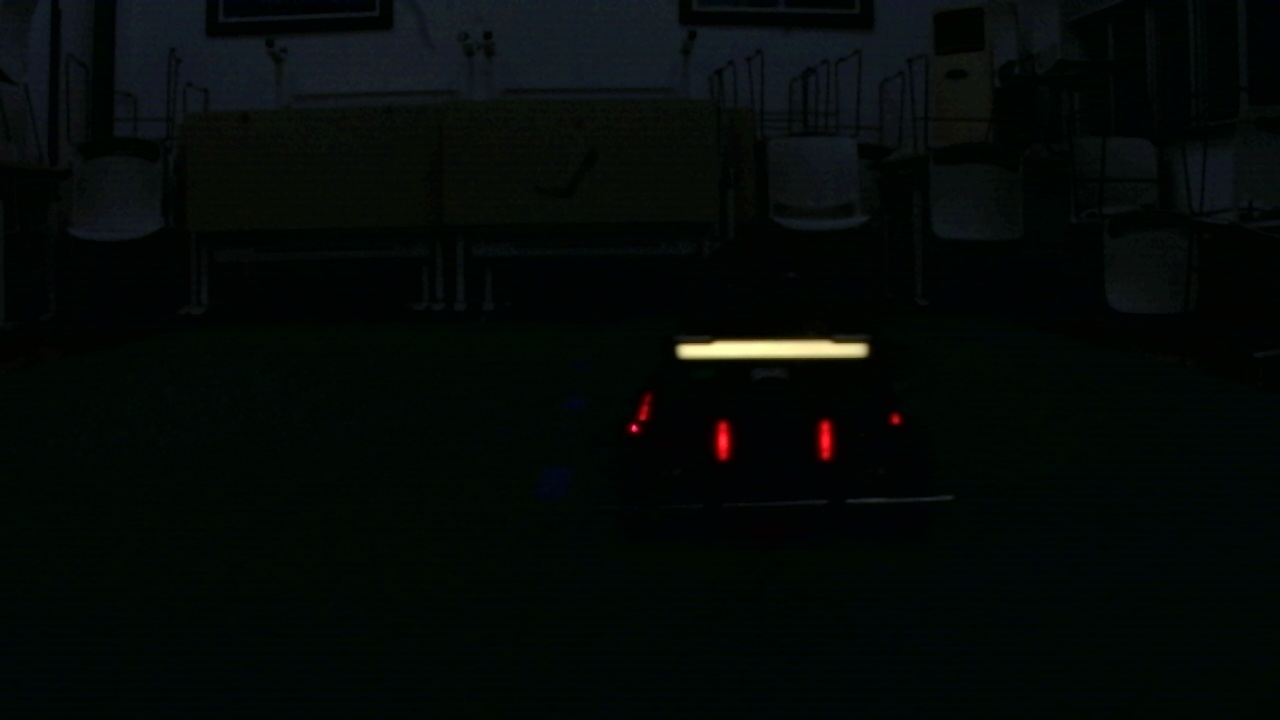lamp: (715, 423, 732, 463), (818, 417, 833, 460)
pair1: (714, 412, 836, 465)
